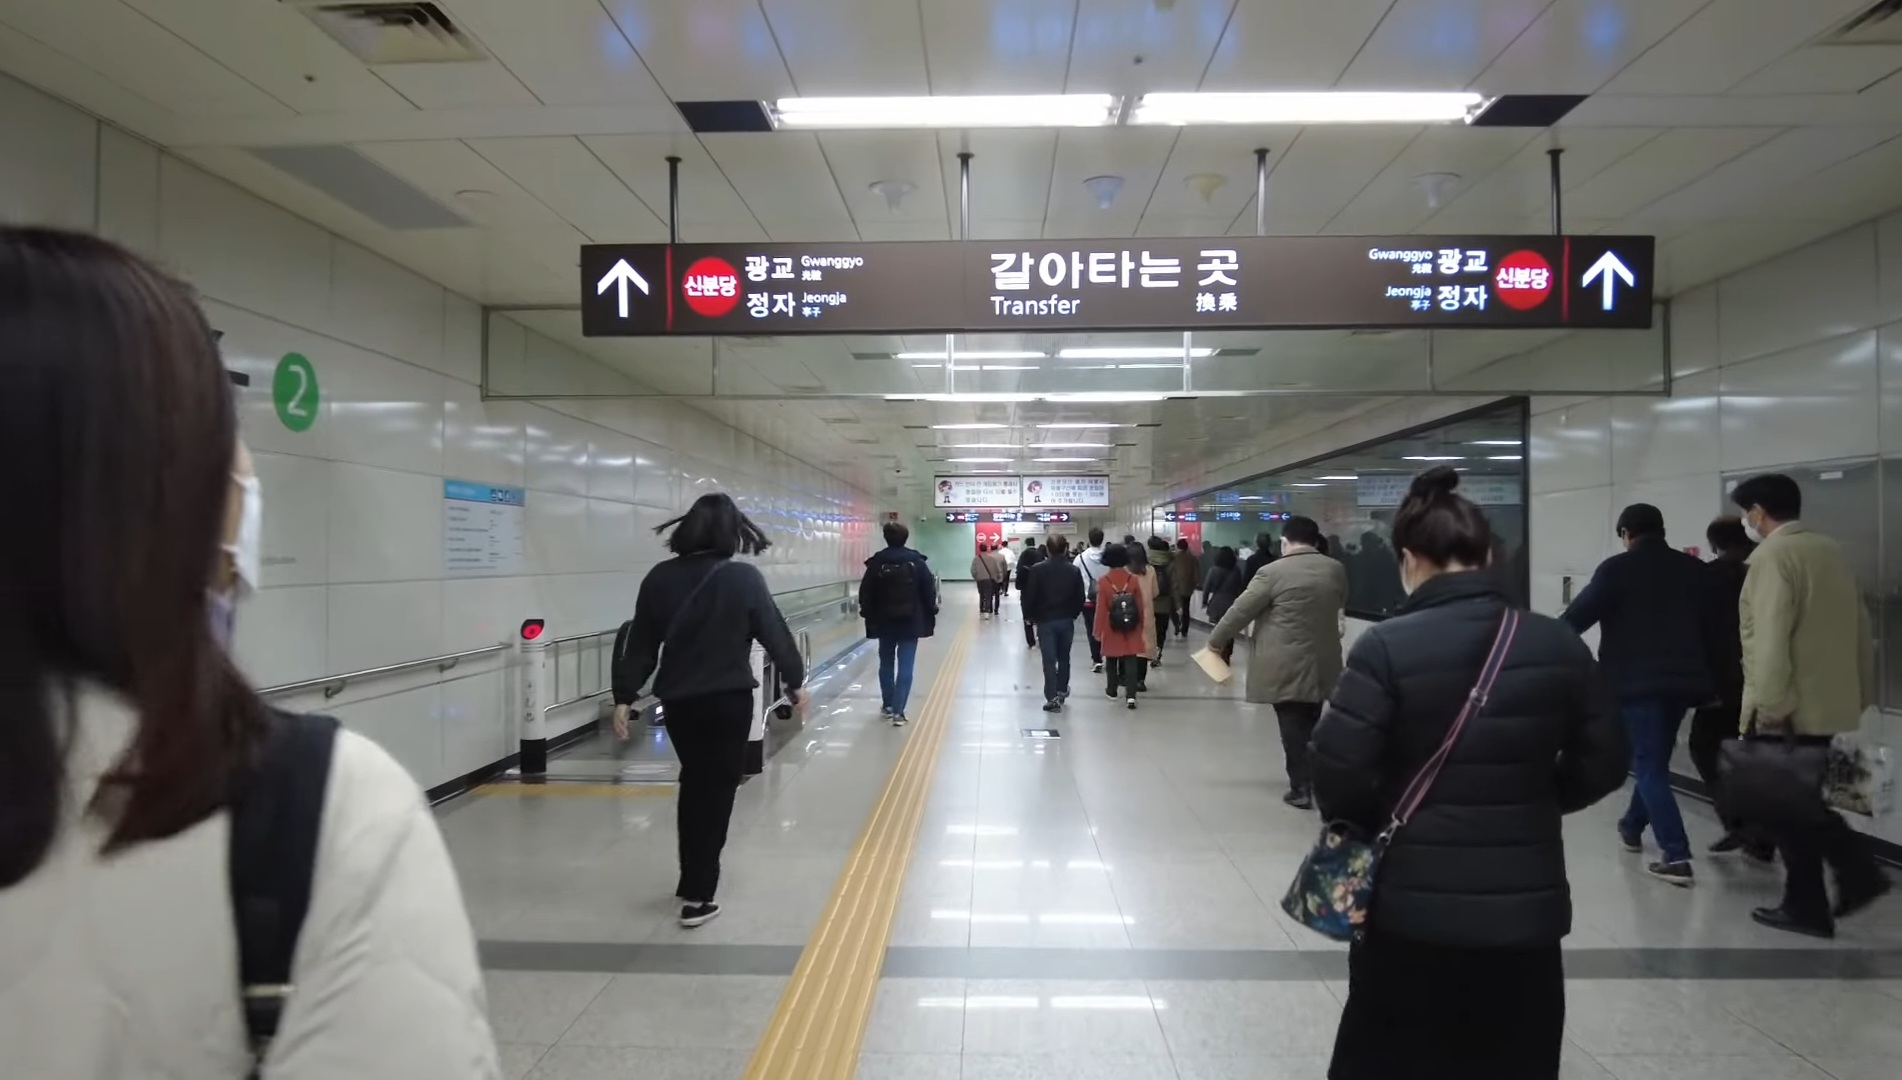signBoard: (546, 195, 1658, 338)
